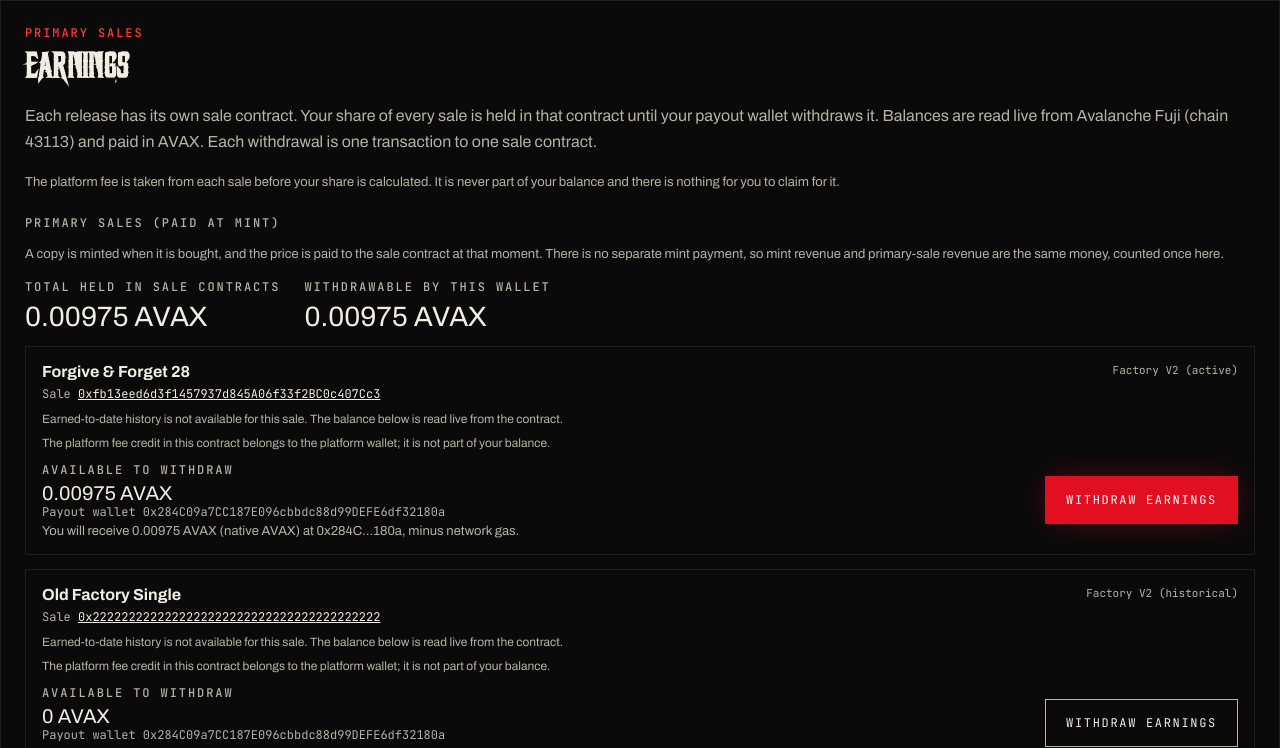
Test case: Studio earnings › does not report success when a successful receipt carries no Withdrawn event
Step 1. Click the button with aria-label "Withdraw from Forgive & Forget 28" → [1142, 500], box [1045,476,1238,524]
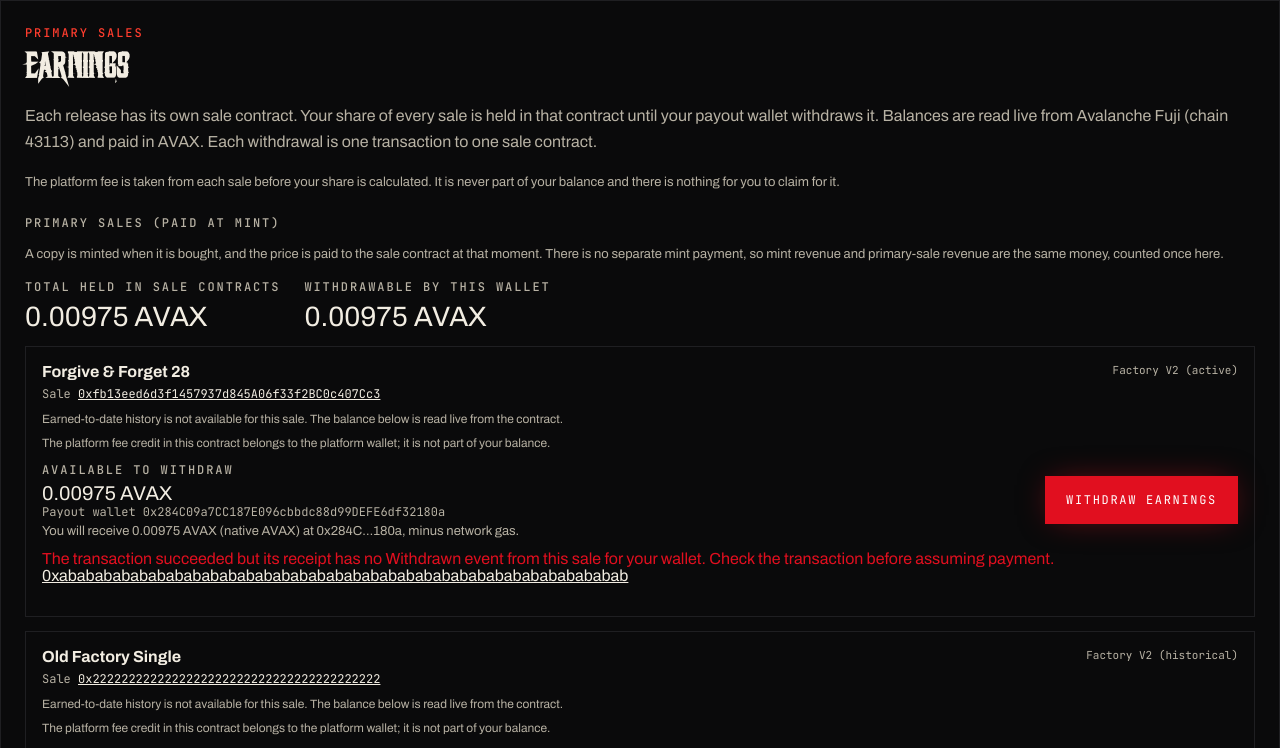
Check: the text "no Withdrawn event from this sale for your wallet" is shown, box [42,550,1054,567]
